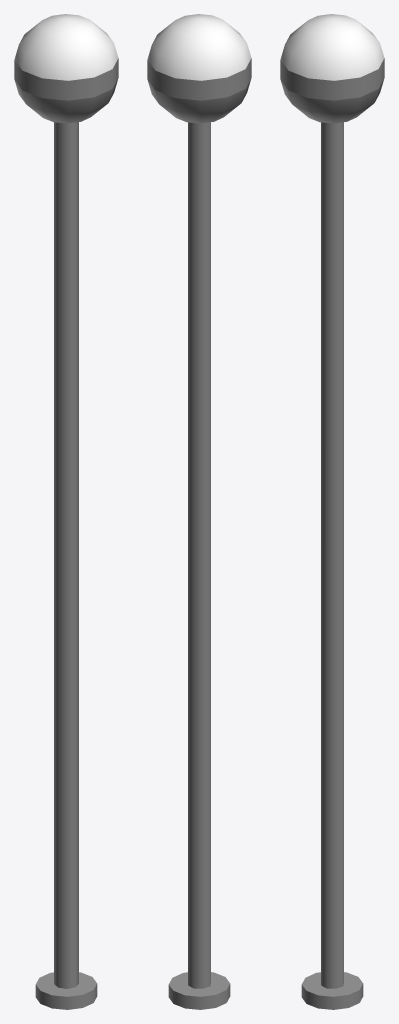
Rendered from SM_StreetLight02.FBX.
The picture shows the model from 3 angles, left to right: view 1: azimuth 90°, elevation 25°; view 2: azimuth 150°, elevation 25°; view 3: azimuth 330°, elevation 25°; orthographic projection.
Visible parts, largest first — view 1: SM_StreetLight02; view 2: SM_StreetLight02; view 3: SM_StreetLight02.
Boxes of the visible parts, left/top/right/bottom form: SM_StreetLight02: left=14, top=14, right=118, bottom=1009; SM_StreetLight02: left=147, top=14, right=251, bottom=1009; SM_StreetLight02: left=280, top=14, right=384, bottom=1009.
Bounding box in the file's own units: 1.16 × 12.06 × 1.16.
